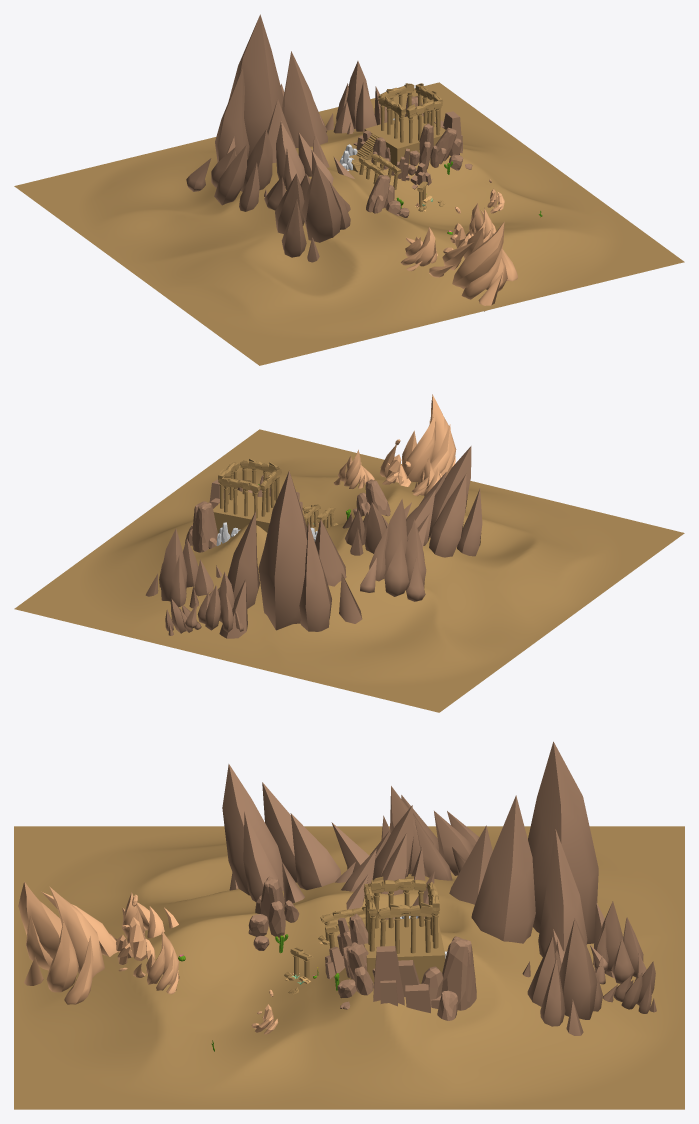
The model's file is DemoScene.fbx.
3 renders of one model, top to bottom at view 1: azimuth 30°, elevation 25°; view 2: azimuth 150°, elevation 25°; view 3: azimuth 270°, elevation 25°, orthographic. The views are drawn at different scales.
Parts seen in each view (by area): view 1: Landscape.003, Cube.005, Cube.007, Cube.028, Cube.008, Cube.013, Cube.006, Plane, Cube.001, Cube.030, Cube.022, Cube.021 (+3 smaller); view 2: Landscape.003, Cube.005, Cube.007, Cube.008, Cube.013, Cube.028, Cube.003, Cube.006, Plane, Cube.026, Cube.001, Ruin_Gate.004 (+6 smaller); view 3: Landscape.003, Cube.005, Cube.007, Cube.028, Cube.013, Cube.008, Cube.006, Cube.026, Cube.025, Cube.003, Plane, Cube.001 (+9 smaller).
Part boxes in pixels (x1,y1,x2,y2): Landscape.003: [14, 82, 684, 365]; Cube.005: [215, 14, 329, 167]; Cube.007: [264, 164, 350, 262]; Cube.028: [429, 222, 517, 311]; Cube.008: [186, 129, 272, 211]; Cube.013: [325, 61, 387, 134]; Cube.006: [276, 121, 354, 189]; Plane: [364, 115, 445, 165]; Cube.001: [366, 175, 409, 217]; Cube.030: [401, 227, 437, 271]; Cube.022: [408, 123, 439, 175]; Cube.021: [435, 127, 472, 170]; Landscape.003: [14, 429, 684, 712]; Cube.005: [219, 471, 362, 638]; Cube.007: [404, 446, 482, 557]; Cube.008: [360, 499, 426, 601]; Cube.013: [145, 528, 222, 608]; Cube.028: [379, 394, 456, 484]; Cube.003: [185, 572, 243, 632]; Cube.006: [342, 502, 388, 555]; Plane: [213, 490, 275, 535]; Cube.026: [185, 501, 217, 552]; Cube.001: [353, 479, 390, 516]; Ruin_Gate.004: [221, 475, 260, 518]; Landscape.003: [14, 826, 684, 1109]; Cube.005: [412, 741, 614, 977]; Cube.007: [222, 764, 369, 903]; Cube.028: [18, 882, 117, 1004]; Cube.013: [522, 918, 602, 1035]; Cube.008: [381, 786, 479, 880]; Cube.006: [335, 805, 425, 909]; Cube.026: [421, 936, 476, 1020]; Cube.025: [373, 946, 441, 1013]; Cube.003: [593, 901, 646, 984]; Plane: [362, 918, 445, 983]; Cube.001: [248, 876, 299, 950].
Size of the model in its own units: 2000 by 750 by 2000.
